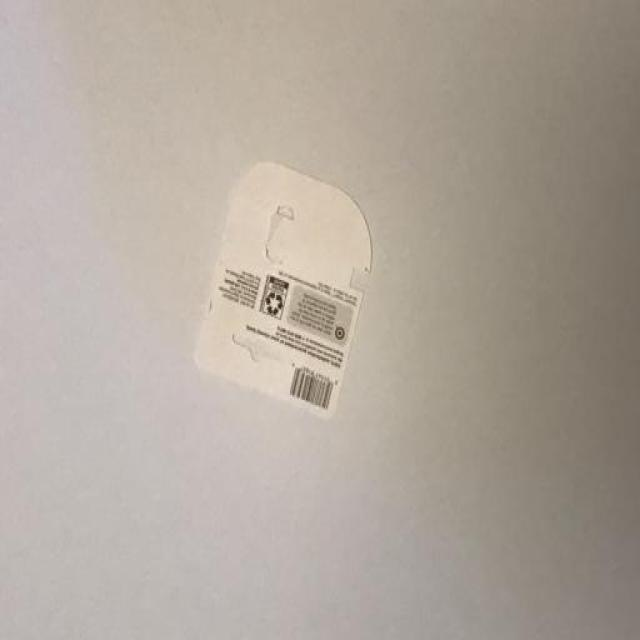paper: (192, 158, 374, 418)
